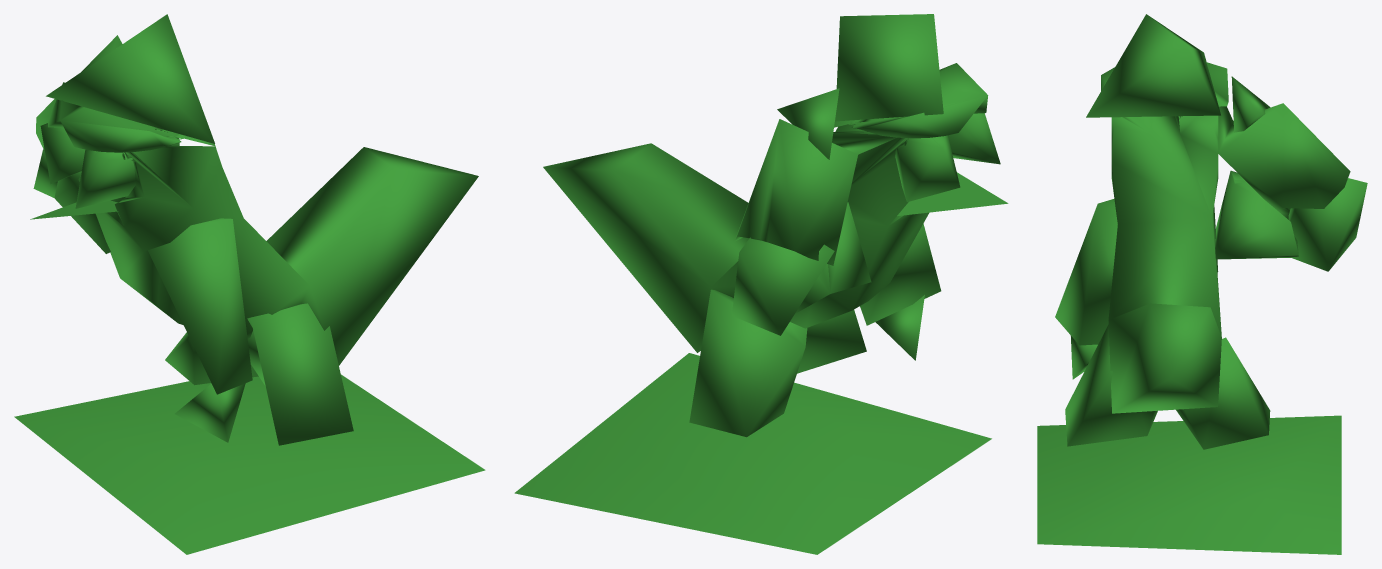
The model's file is crew_marine_g.glb.
The picture shows the model from 3 angles, left to right: view 1: azimuth 30°, elevation 25°; view 2: azimuth 150°, elevation 25°; view 3: azimuth 270°, elevation 25°; orthographic projection. The views are drawn at different scales.
Visible parts, largest first — view 1: figura; view 2: figura; view 3: figura.
Part boxes in pixels (<box>): figura: <box>14,14,485,554</box>; figura: <box>514,14,1008,554</box>; figura: <box>1037,14,1367,554</box>.
Bounding box in the file's own units: 0.0304 × 0.0297 × 0.0217.
